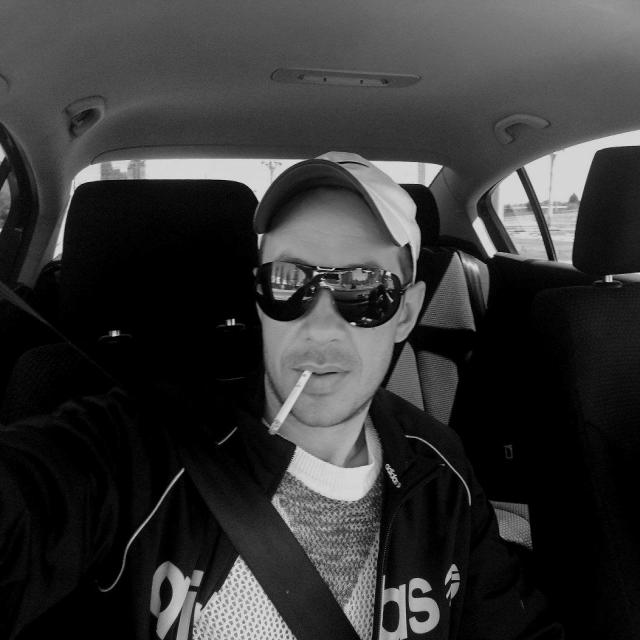Cigarette: (265, 364, 318, 439)
